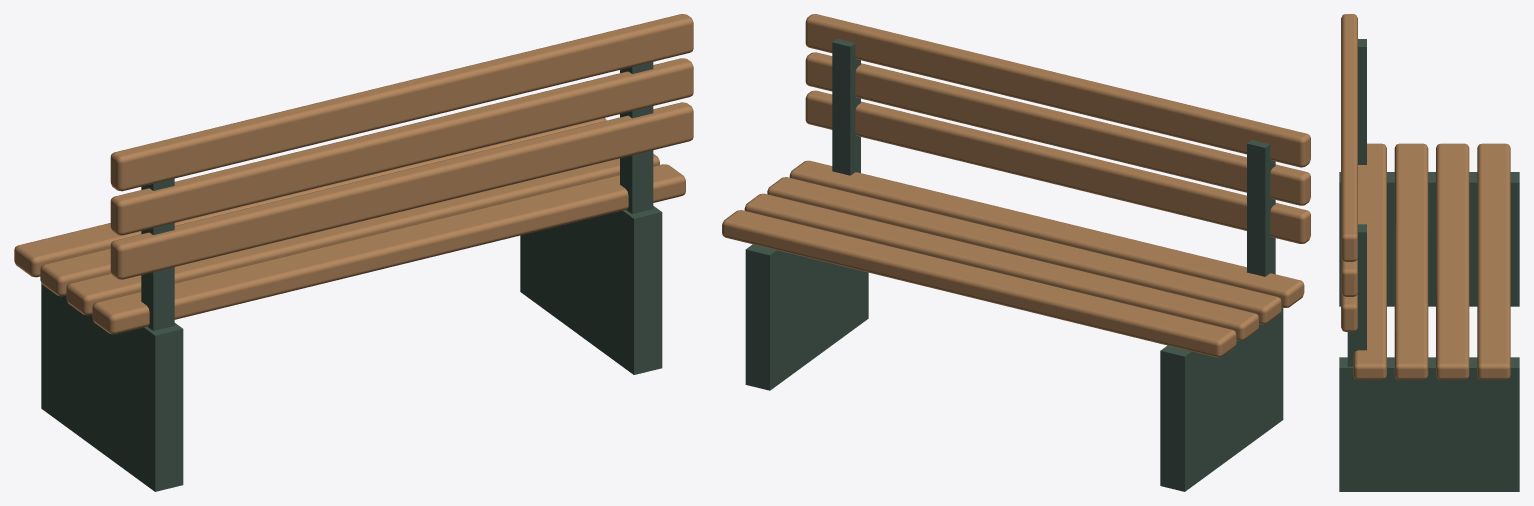
File: park-bench.glb
The picture shows the model from 3 angles, left to right: view 1: azimuth 30°, elevation 25°; view 2: azimuth 150°, elevation 25°; view 3: azimuth 270°, elevation 25°; orthographic projection. The views are drawn at different scales.
Bounding box in the file's own units: 2.05 × 1.15 × 0.7.
